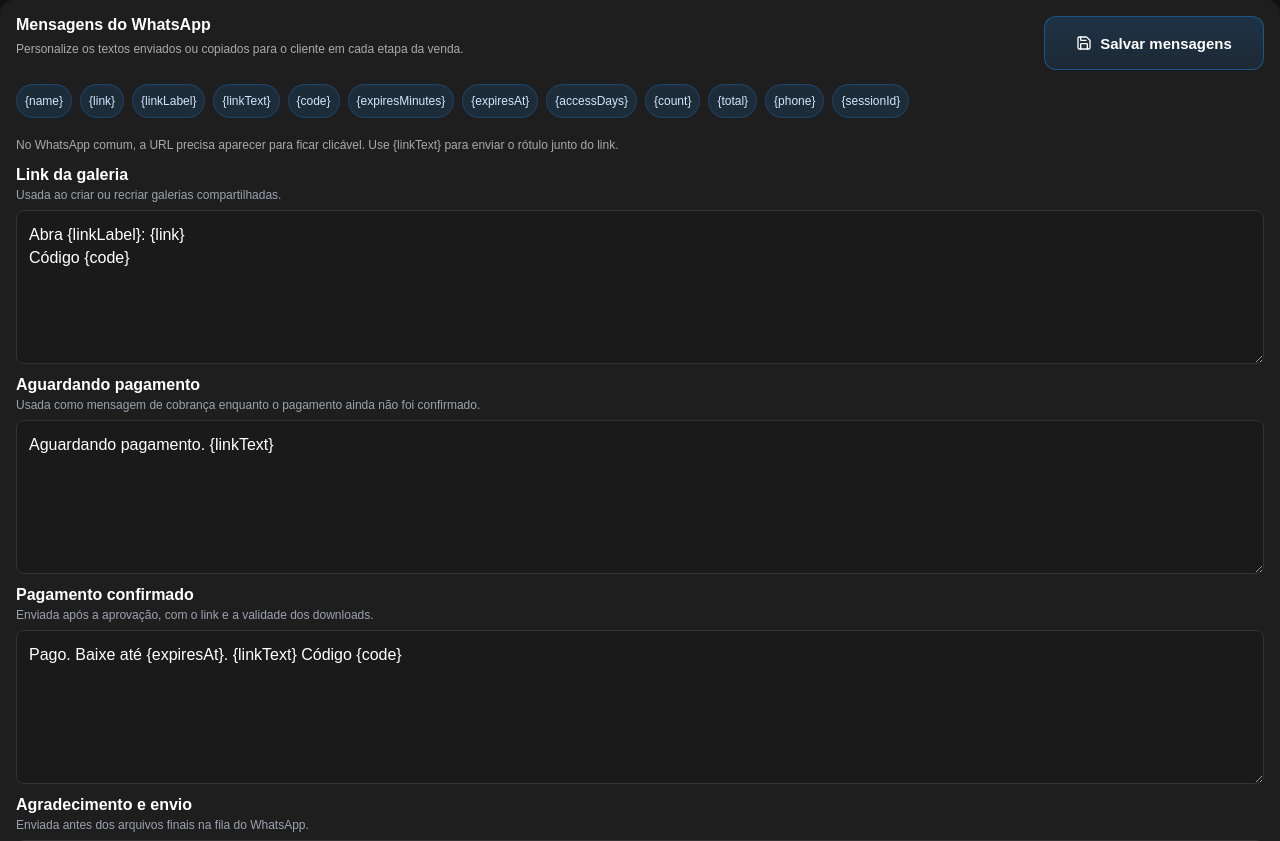
Test: WhatsAppTemplatesPanel › keeps the rightmost session ID tooltip available without page-width overflow
Click the button "{sessionId}": (871, 101) top-left (832, 84), bottom-right (909, 118)
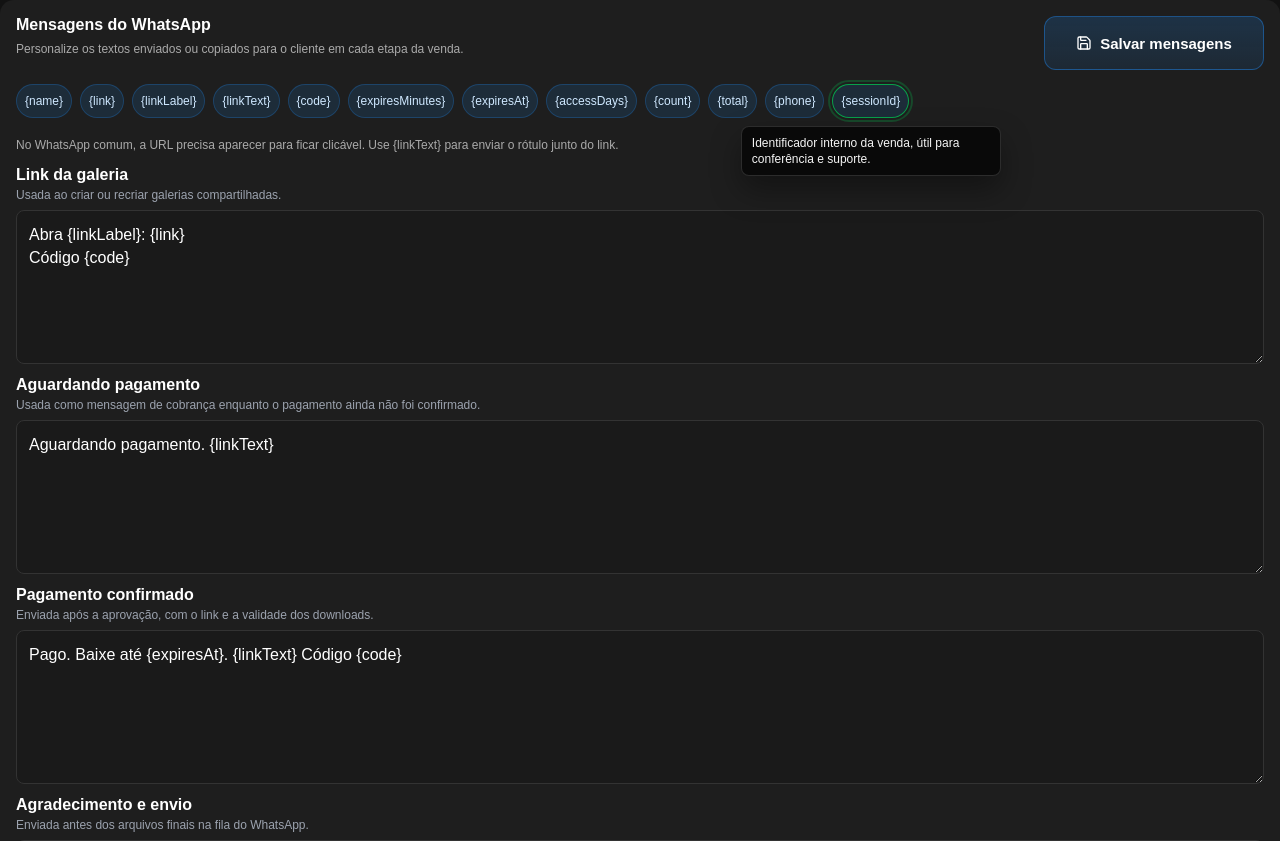
Check: the tooltip shows "Identificador interno da venda", box top-left (752, 136), bottom-right (959, 166)
